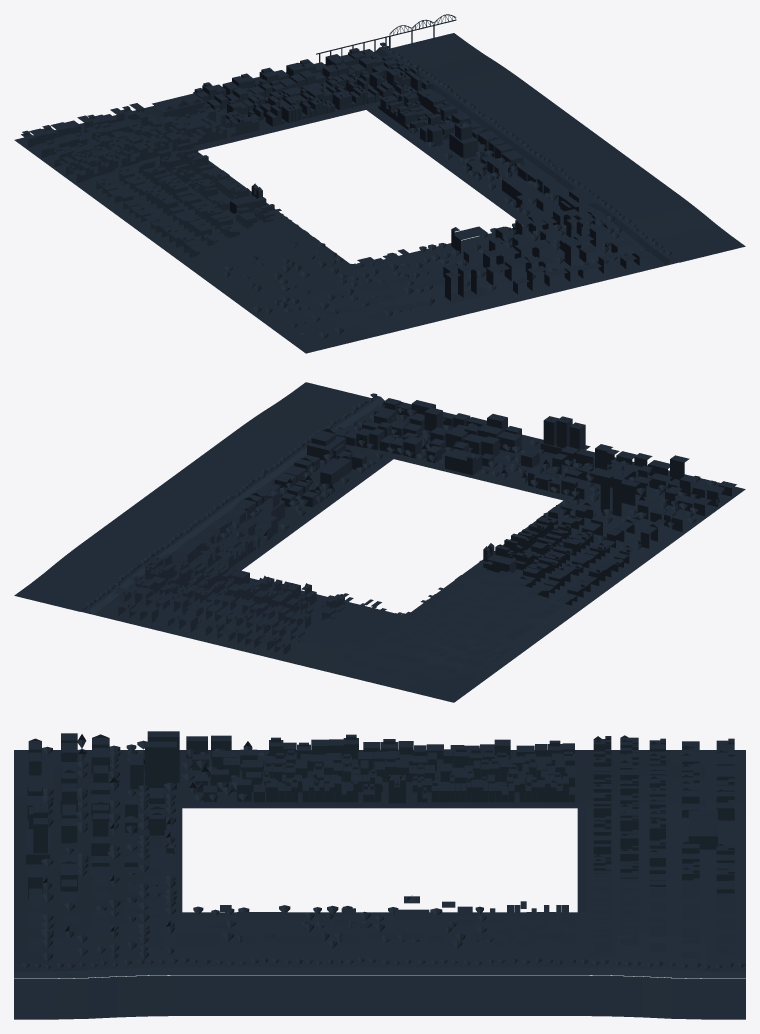
Rendered from outskirts_band.glb.
3 views of the same model, one above another, from view 1: azimuth 30°, elevation 25°; view 2: azimuth 150°, elevation 25°; view 3: azimuth 270°, elevation 25° (orthographic). The views are drawn at different scales.
Visible parts, largest first — view 1: OutskirtsBand; view 2: OutskirtsBand; view 3: OutskirtsBand.
Part boxes in pixels (x1,y1,x2,y2): OutskirtsBand: (14, 14, 745, 353); OutskirtsBand: (14, 382, 745, 702); OutskirtsBand: (14, 731, 745, 1019).
Size of the model in its own units: 479 by 45.81 by 548.
